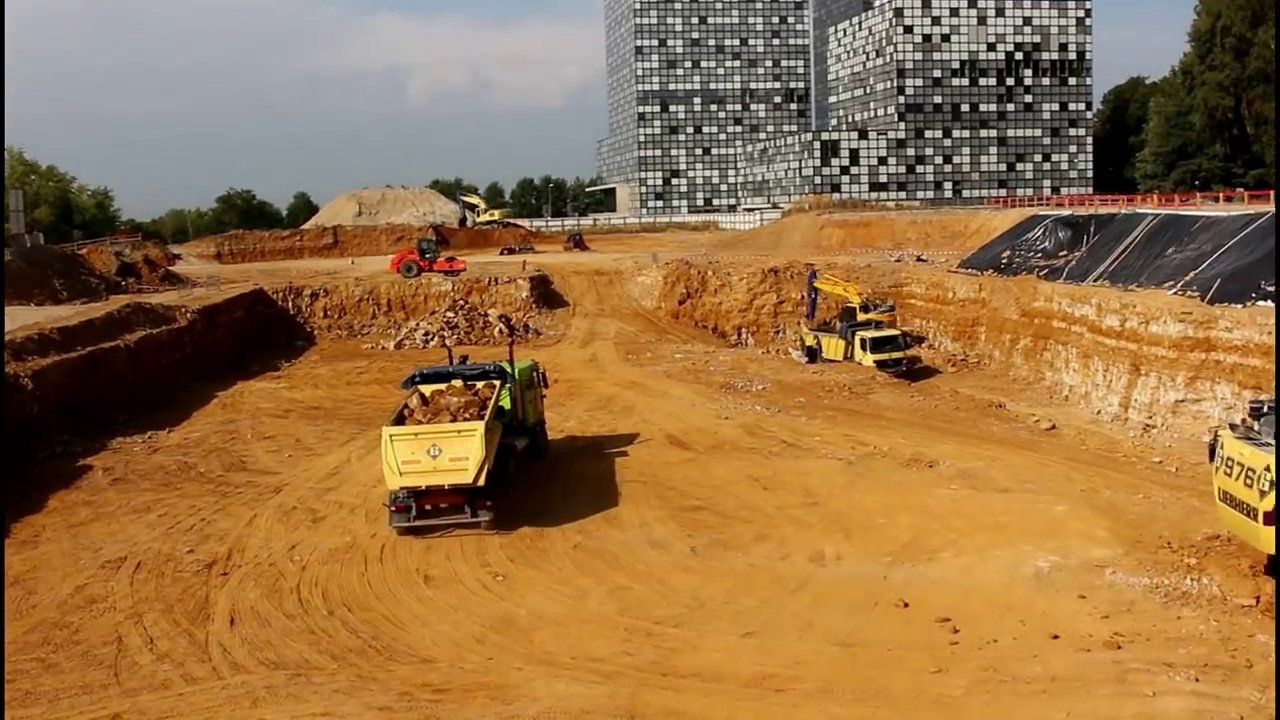compactor: (385, 237, 472, 282)
excavator: (1205, 392, 1280, 575), (796, 268, 907, 358), (455, 186, 515, 233)
truck: (377, 333, 551, 538), (802, 324, 909, 396)
